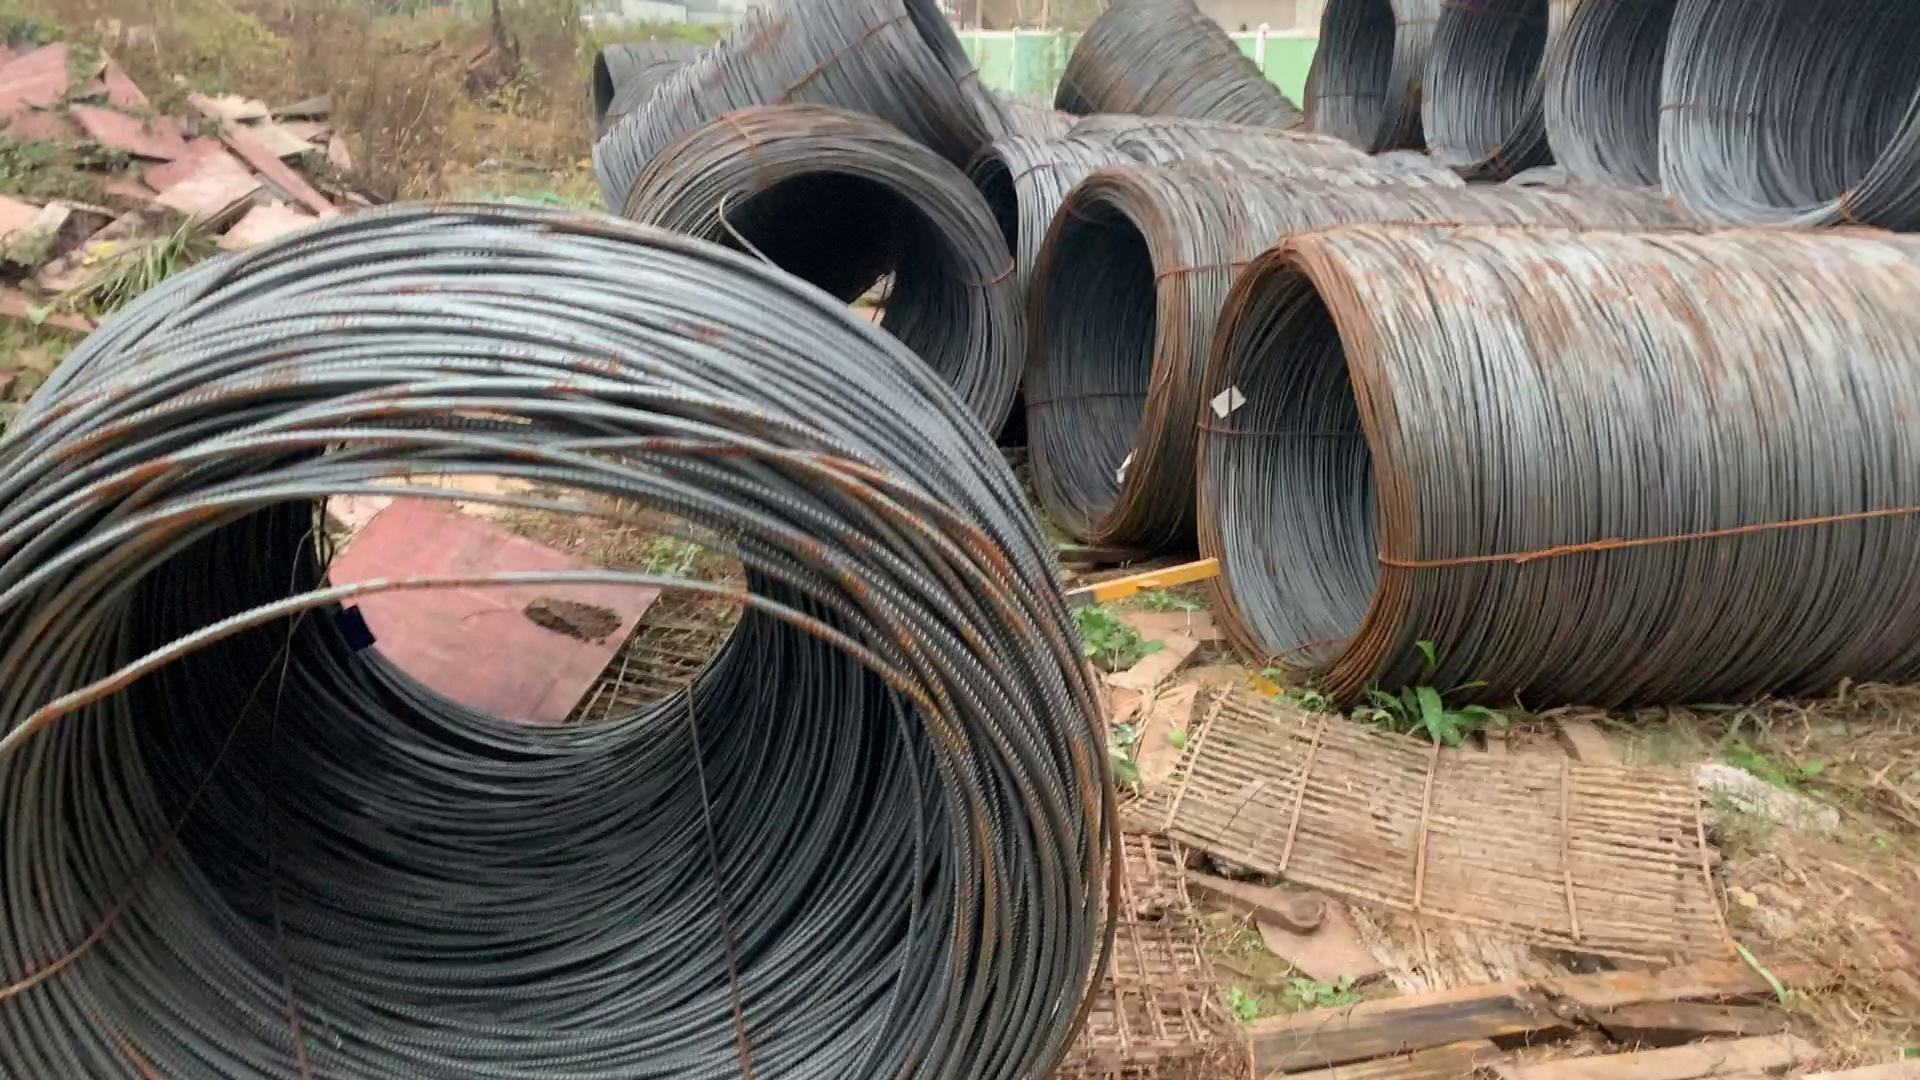coil: (1, 450, 1116, 1068), (640, 157, 1021, 479), (1207, 257, 1418, 688), (1025, 164, 1199, 546), (1652, 11, 1913, 229), (1543, 1, 1683, 196), (1427, 4, 1552, 171), (907, 1, 1025, 164), (1309, 4, 1407, 149), (579, 49, 632, 167)
